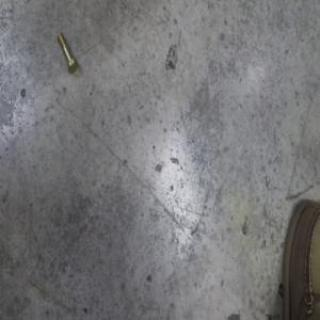Bolttrack_idkeyframe: (57, 30, 78, 73)
